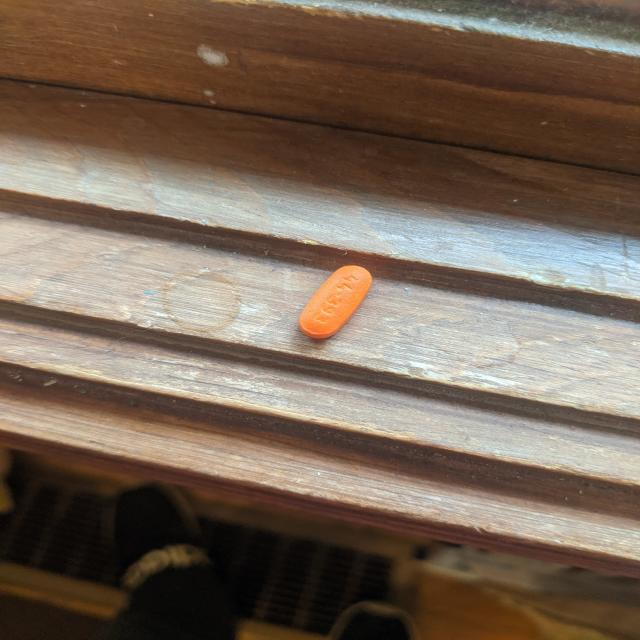non-organic waste: (297, 264, 374, 339)
